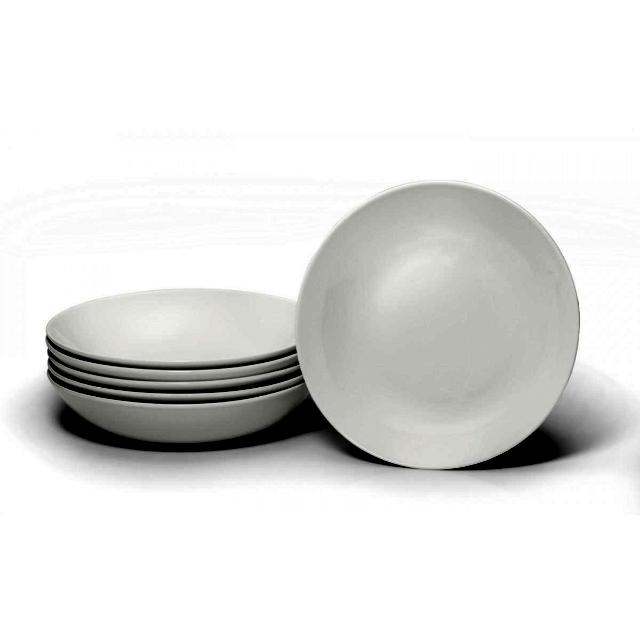Plate: (296, 183, 579, 468), (47, 290, 295, 369), (50, 375, 307, 447), (48, 361, 303, 403), (46, 339, 297, 381), (48, 352, 300, 393)
